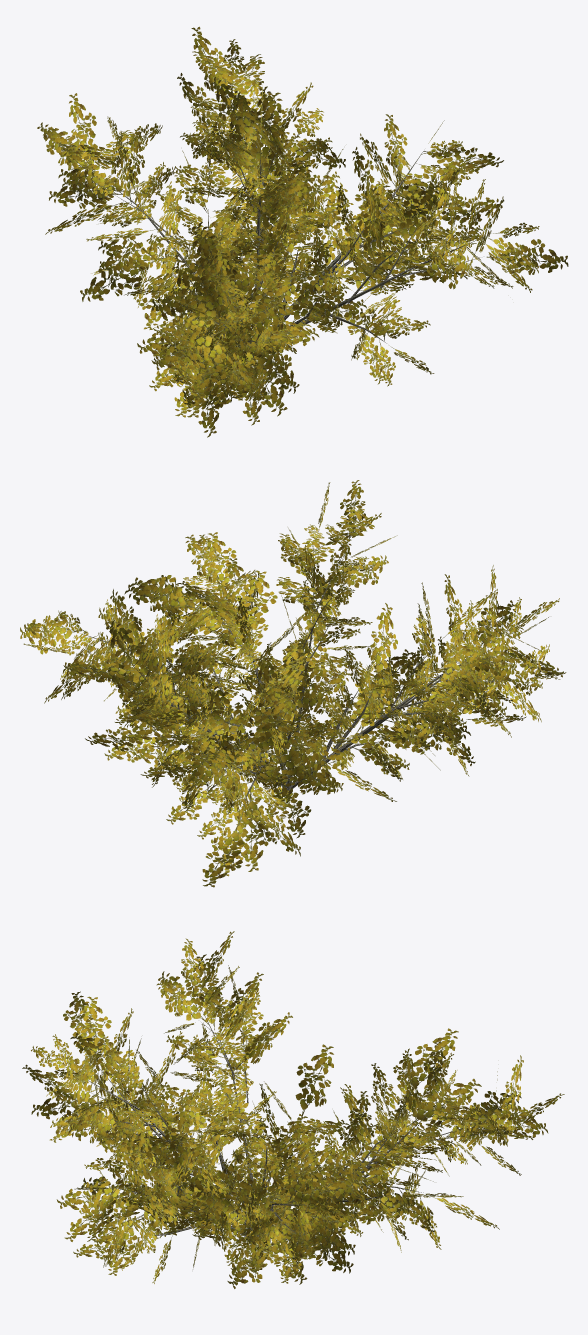
File: ez-bush-lod2.glb
3 renders of one model, top to bottom at view 1: azimuth 30°, elevation 25°; view 2: azimuth 150°, elevation 25°; view 3: azimuth 270°, elevation 25°, orthographic. The views are drawn at different scales.
Parts seen in each view (by area): view 1: Leaves_LOD2, Branches_LOD2; view 2: Leaves_LOD2, Branches_LOD2; view 3: Leaves_LOD2, Branches_LOD2.
Part boxes in pixels (left/top/right/bottom): Leaves_LOD2: left=37, top=26, right=568, bottom=437; Branches_LOD2: left=112, top=91, right=485, bottom=364; Leaves_LOD2: left=20, top=480, right=566, bottom=887; Branches_LOD2: left=80, top=543, right=509, bottom=819; Leaves_LOD2: left=22, top=931, right=564, bottom=1288; Branches_LOD2: left=88, top=1006, right=488, bottom=1239.
Size of the model in its own units: 36.34 by 25.44 by 38.69.
2 materials, 2 textured.
